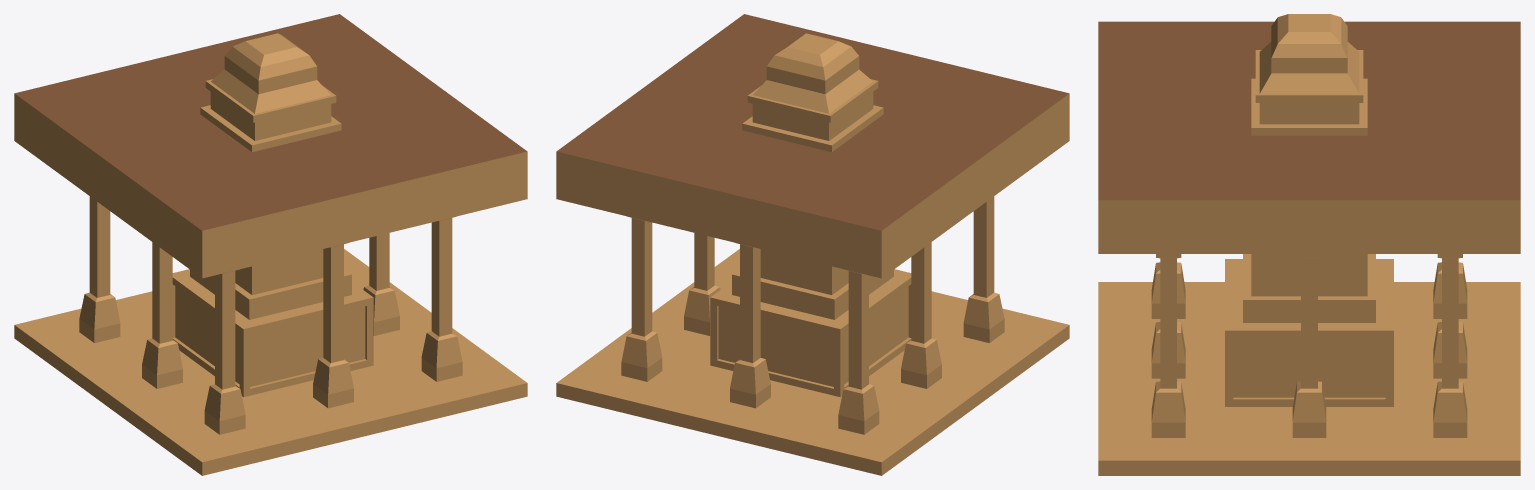
File: india-hindu-pillars-middle-big.glb
3 renders of one model, left to right at view 1: azimuth 30°, elevation 25°; view 2: azimuth 150°, elevation 25°; view 3: azimuth 270°, elevation 25°, orthographic. The views are drawn at different scales.
Parts seen in each view (by area): view 1: hindu-pillars-middle-big; view 2: hindu-pillars-middle-big; view 3: hindu-pillars-middle-big.
Part boxes in pixels (bbox=[...]): hindu-pillars-middle-big: bbox=[14, 14, 527, 475]; hindu-pillars-middle-big: bbox=[556, 14, 1069, 475]; hindu-pillars-middle-big: bbox=[1098, 14, 1520, 475].
Bounding box in the file's own units: 5 × 4.75 × 5.
